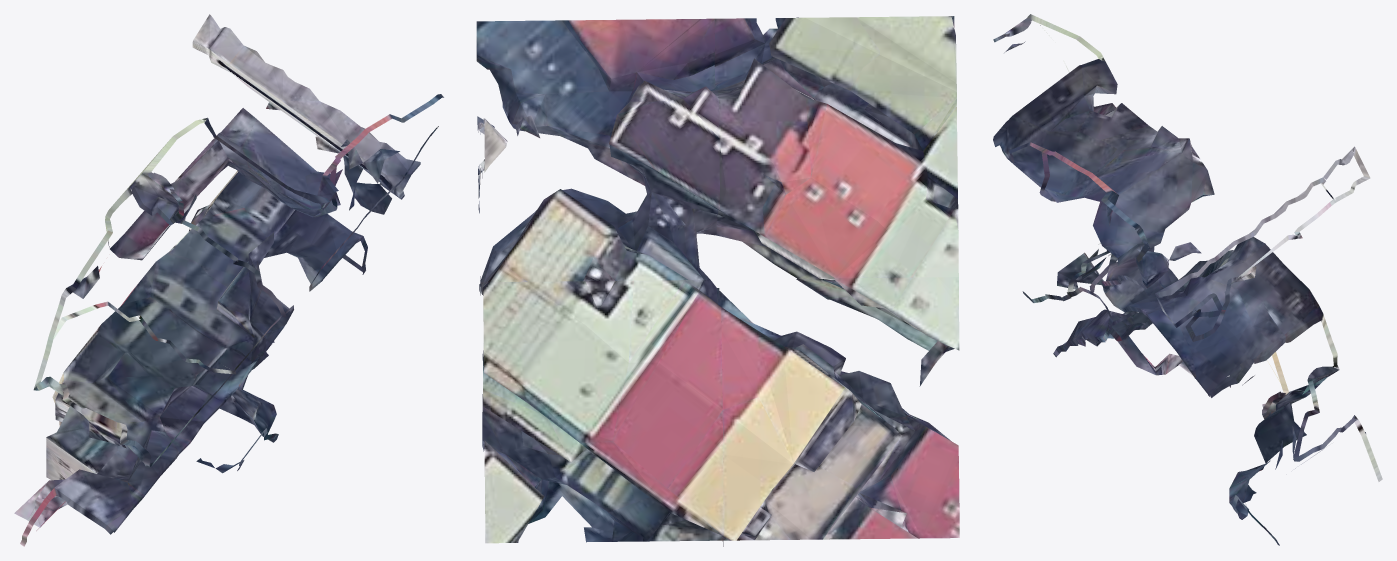
3 views of the same model, side by side, from view 1: azimuth 30°, elevation 25°; view 2: azimuth 150°, elevation 25°; view 3: azimuth 270°, elevation 25° (orthographic). The views are drawn at different scales.
Bounding box in the file's own units: 40.87 × 39.9 × 34.53.
Materials: 2 (2 with a texture image).
